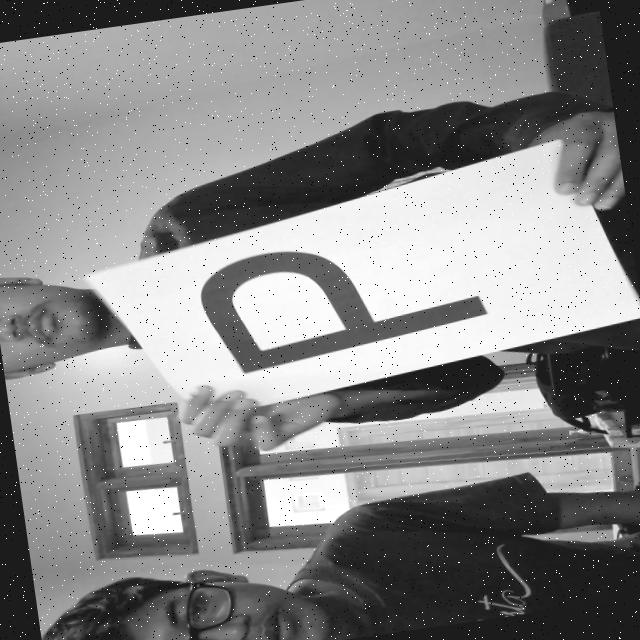p: (177, 207, 504, 389)
